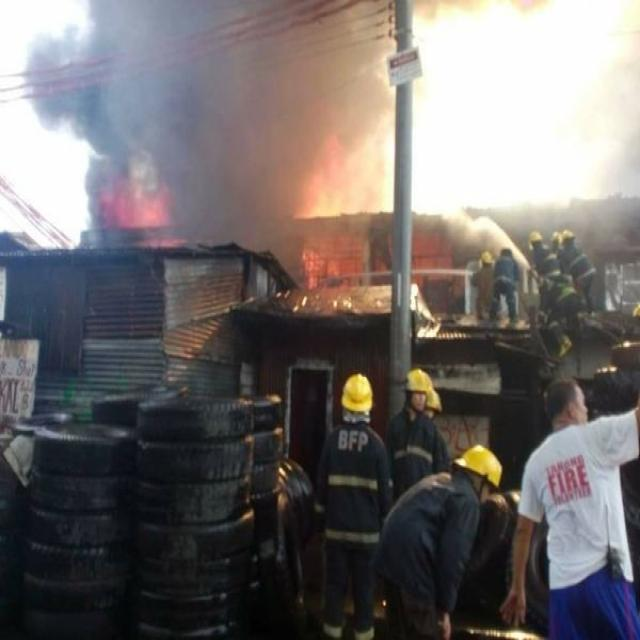Fire: (303, 240, 367, 274)
Smoke: (59, 10, 378, 215), (100, 180, 182, 240)
